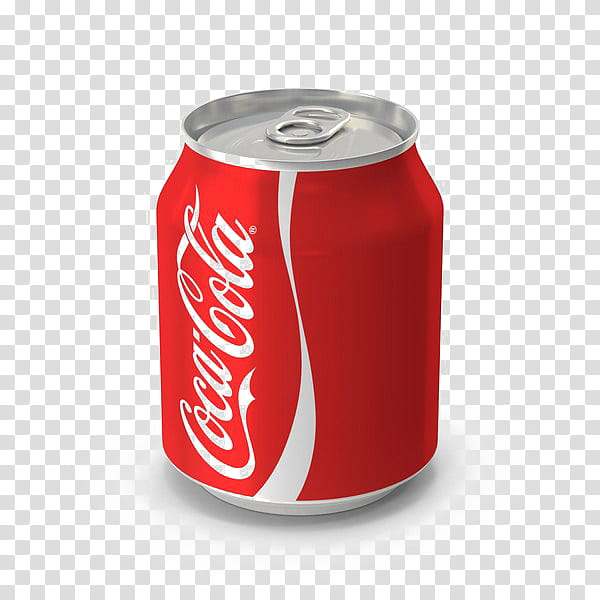coke: (166, 186, 272, 481)
